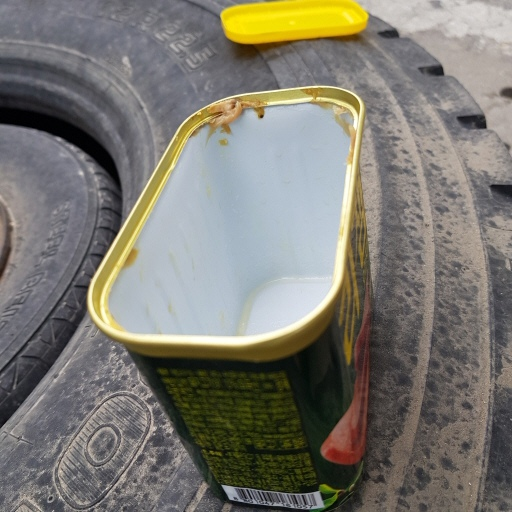Metal_2: (84, 84, 380, 507)
